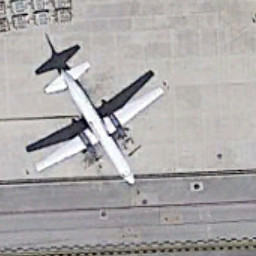Airplane: (25, 50, 175, 200)
